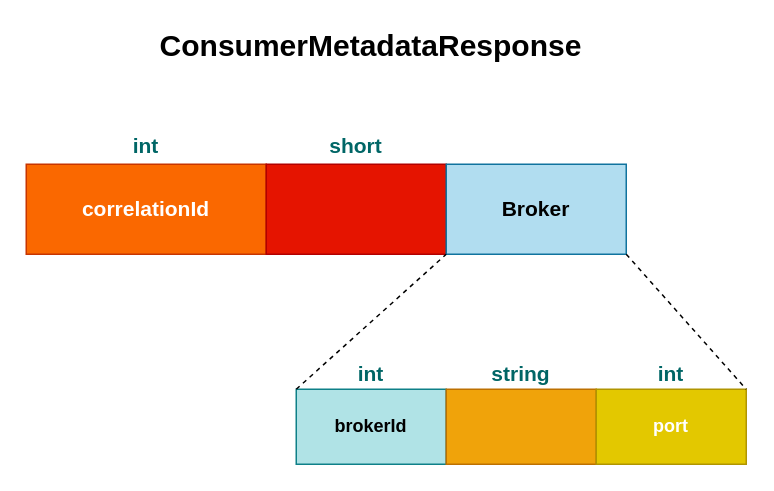
Some shapes in this 774 by 491 pixel diagram are drawn without their labels. Here are the shapes that lost their labels. From the top down, the centre of each, then its label:
At point (355, 208): "errorCode".
At point (520, 426): "host".
